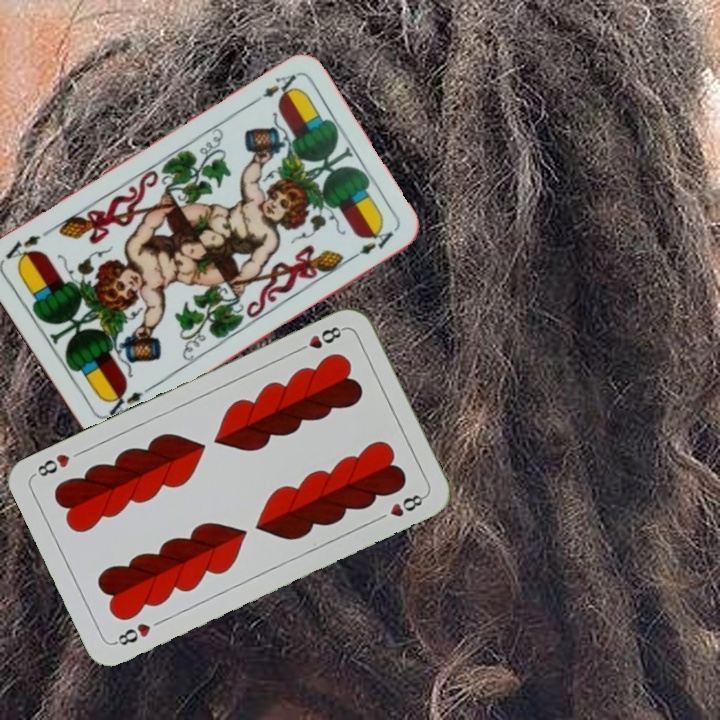EA: (101, 383, 154, 422), (247, 70, 300, 108)
H8: (292, 322, 348, 356), (110, 619, 154, 649)
